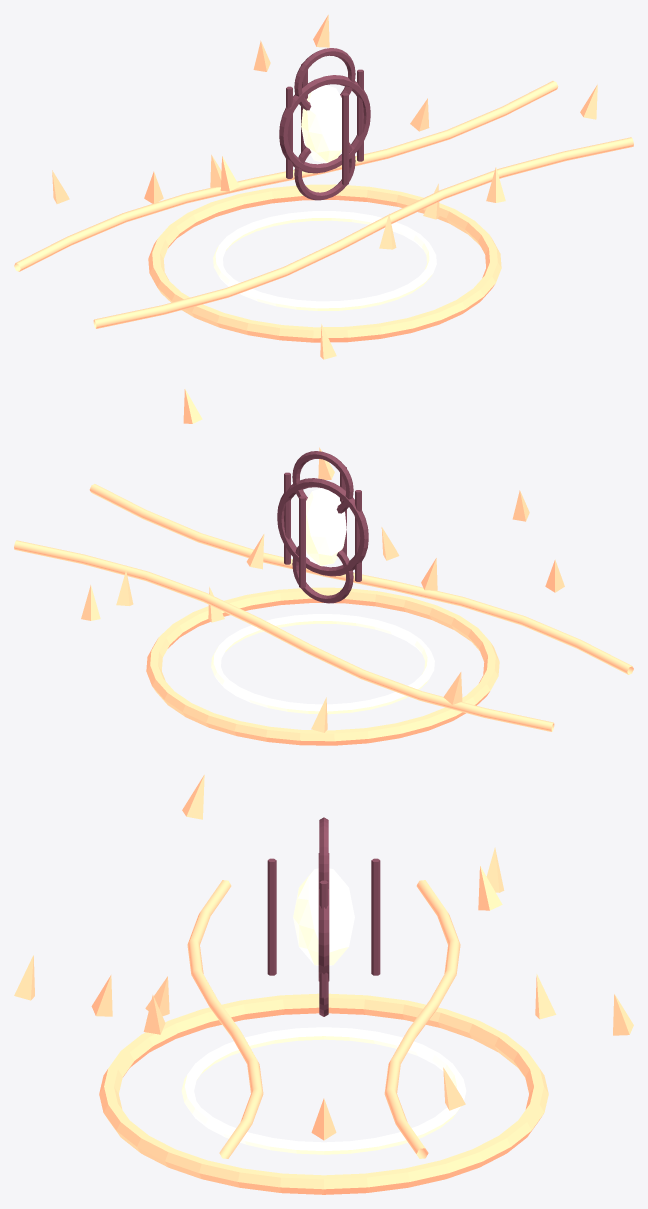
The model's file is cinder-span-ember-wake.glb.
The picture shows the model from 3 angles, top to bottom: view 1: azimuth 30°, elevation 25°; view 2: azimuth 150°, elevation 25°; view 3: azimuth 270°, elevation 25°; orthographic projection. The views are drawn at different scales.
Visible parts, largest first — view 1: cinder-seal-ring, cinder-ash-stream--1, cinder-ash-stream-1, cinder-seal-ring-inner, cinder-lantern-flame, cinder-lantern-cage-mid, cinder-lantern-cage-top, cinder-lantern-cage-base, cinder-lantern-cage-bar-4.71, cinder-lantern-cage-bar-0; view 2: cinder-seal-ring, cinder-ash-stream-1, cinder-ash-stream--1, cinder-seal-ring-inner, cinder-lantern-flame, cinder-lantern-cage-mid, cinder-lantern-cage-top, cinder-lantern-cage-base, cinder-lantern-cage-bar-1.57; view 3: cinder-seal-ring, cinder-seal-ring-inner, cinder-ash-stream-1, cinder-ash-stream--1, cinder-lantern-flame, cinder-lantern-cage-bar-1.57, cinder-lantern-cage-bar-4.71, cinder-lantern-cage-mid, cinder-lantern-cage-top, cinder-ember-03.
Part boxes in pixels (x1,y1,x2,y2): cinder-seal-ring: (148, 184, 501, 342); cinder-ash-stream--1: (93, 137, 633, 328); cinder-ash-stream-1: (14, 81, 558, 271); cinder-seal-ring-inner: (213, 211, 436, 310); cinder-lantern-flame: (301, 85, 341, 163); cinder-lantern-cage-mid: (279, 75, 370, 173); cinder-lantern-cage-top: (294, 48, 355, 110); cinder-lantern-cage-base: (294, 142, 355, 200); cinder-lantern-cage-bar-4.71: (342, 93, 348, 185); cinder-lantern-cage-bar-0: (357, 69, 363, 161); cinder-seal-ring: (146, 587, 499, 745); cinder-ash-stream-1: (14, 540, 554, 731); cinder-ash-stream--1: (89, 484, 633, 674); cinder-seal-ring-inner: (211, 614, 434, 714); cinder-lantern-flame: (306, 488, 346, 566); cinder-lantern-cage-mid: (277, 478, 368, 576); cinder-lantern-cage-top: (292, 451, 353, 513); cinder-lantern-cage-base: (292, 546, 353, 603); cinder-lantern-cage-bar-1.57: (299, 496, 305, 588); cinder-seal-ring: (99, 993, 548, 1194); cinder-seal-ring-inner: (181, 1027, 466, 1154); cinder-ash-stream-1: (384, 880, 460, 1158); cinder-ash-stream--1: (187, 880, 263, 1158); cinder-lantern-flame: (293, 868, 354, 965); cinder-lantern-cage-bar-1.57: (371, 858, 380, 975); cinder-lantern-cage-bar-4.71: (267, 858, 276, 975); cinder-lantern-cage-mid: (318, 853, 329, 981); cinder-lantern-cage-top: (319, 817, 328, 888); cinder-ember-03: (478, 866, 502, 910).
Bounding box in the file's own units: 4.35 × 1.7 × 3.41.
